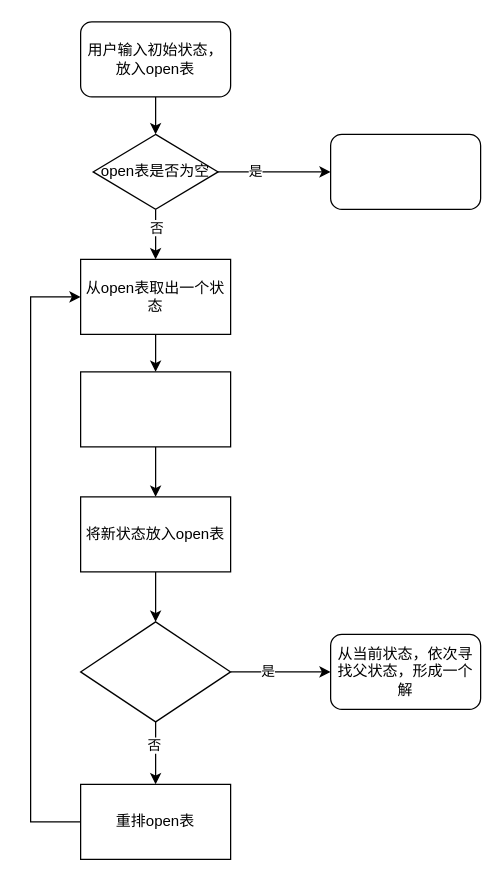
The diagram is 503 pixels wide and 881 high, and some of its shapes have lost their labels. The centre of each missing label's shape, as x and y in pixels:
数字0（空位）分别和上下左右四个方向的数字交换，得到四个新状态: (x=155, y=409)
无解: (x=405, y=171)
检查新状态是否是目标状态: (x=155, y=671)
